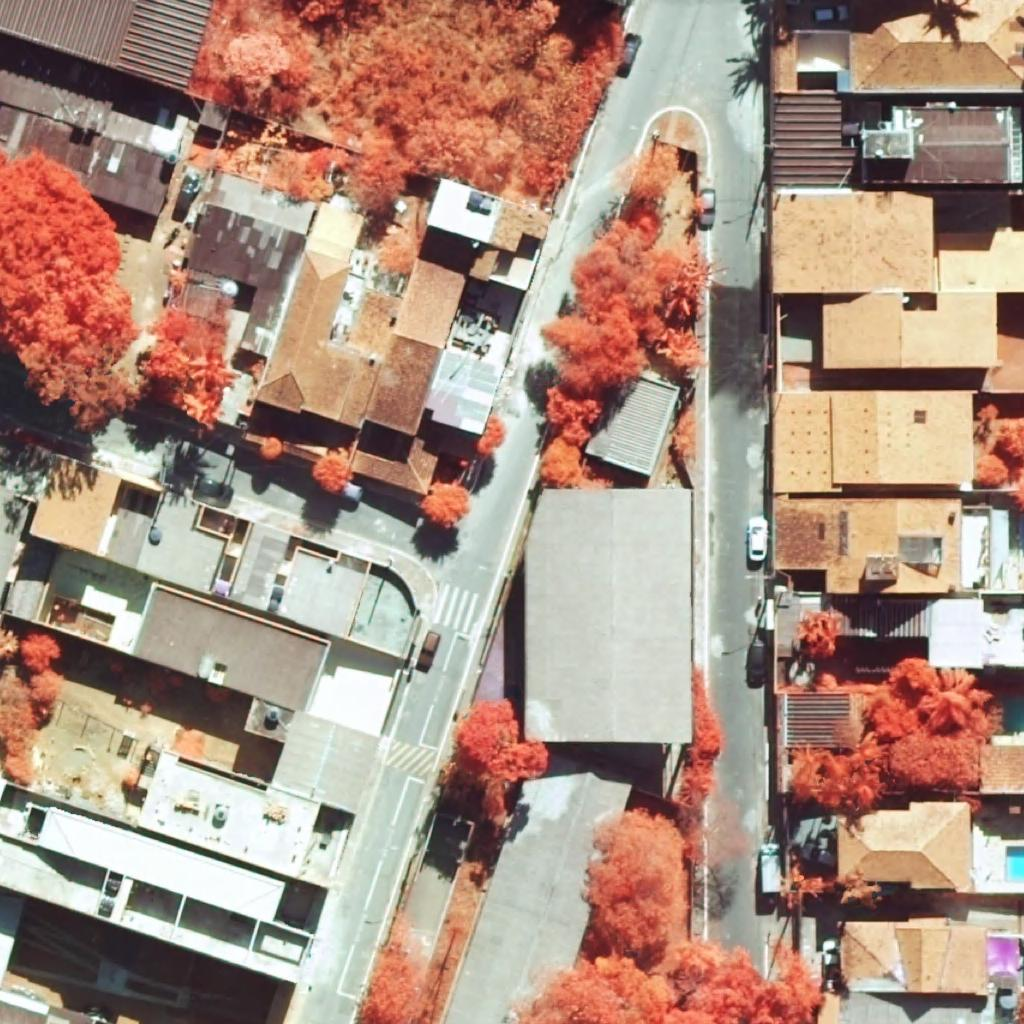pool: (1006, 846, 1024, 882), (1005, 699, 1024, 730)
